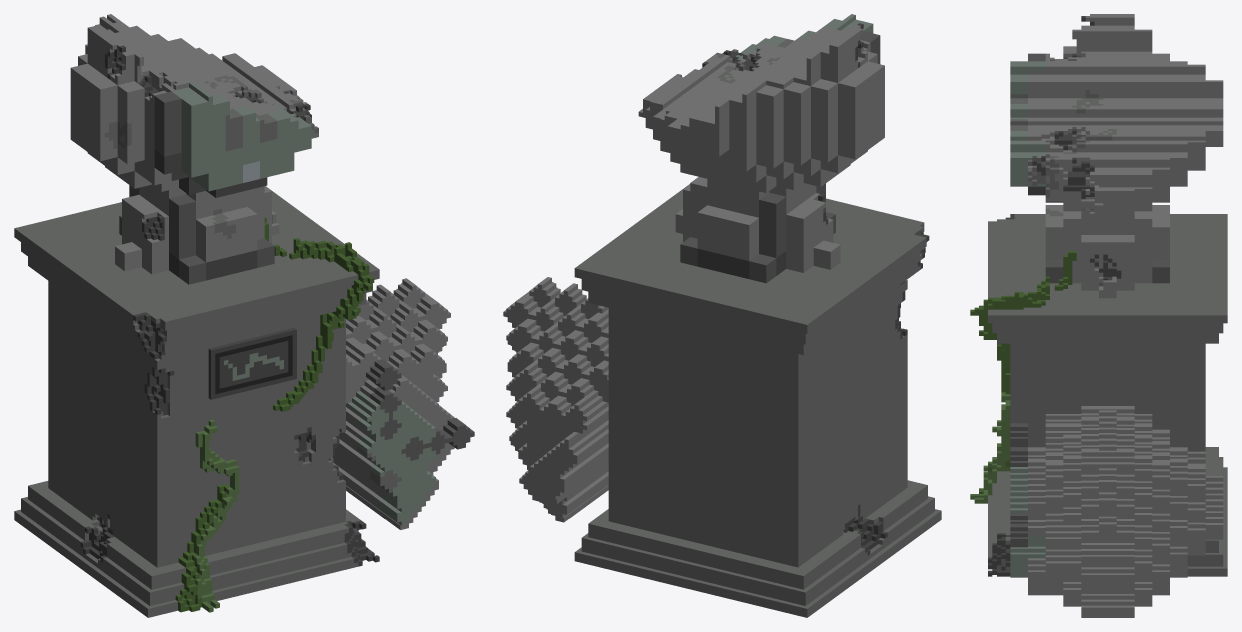
The model's file is Statue.FBX.
The picture shows the model from 3 angles, left to right: view 1: azimuth 30°, elevation 25°; view 2: azimuth 150°, elevation 25°; view 3: azimuth 270°, elevation 25°; orthographic projection. The views are drawn at different scales.
Parts seen in each view (by area): view 1: statue; view 2: statue; view 3: statue.
Part boxes in pixels (box(x1,y1,x2,y2)): statue: box(14, 14, 474, 617); statue: box(503, 14, 941, 617); statue: box(970, 14, 1227, 617).
Size of the model in its own units: 8.5 by 11.7 by 5.8.
1 material, 1 textured.
